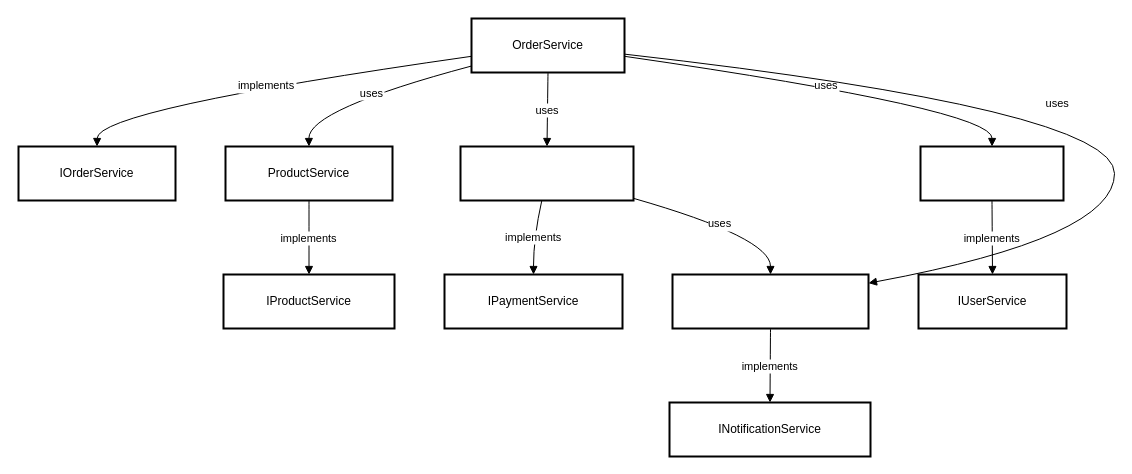
This 1132x474 diagram has some shape labels left out. Here are the shapes that lost their labels. From the top down, the box of each, then its label:
(459, 145, 634, 201): PaymentService
(919, 145, 1064, 201): UserService
(671, 273, 869, 329): NotificationService
